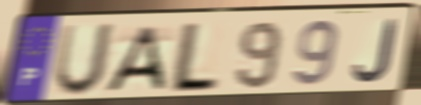9: (231, 19, 284, 91), (290, 17, 341, 89)
A: (101, 24, 167, 94)
J: (351, 17, 400, 85)
L: (165, 19, 223, 95)
U: (50, 20, 119, 99)
